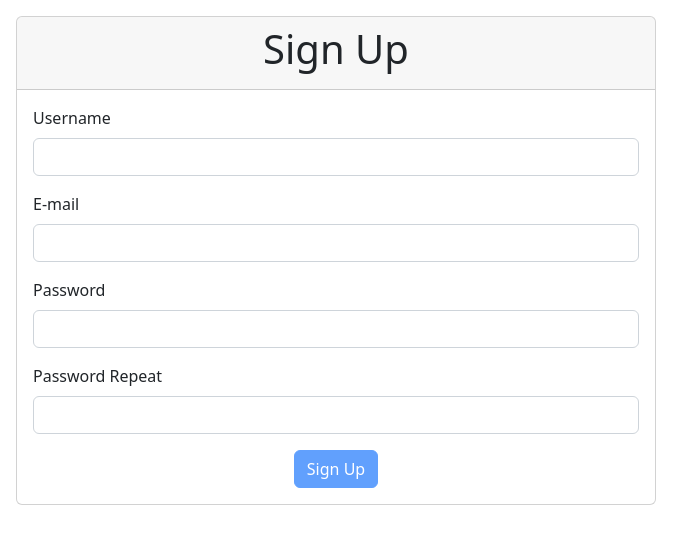
Test: SignUpPage › Interaction › hides spinner after error response received
Step 1. Type "user1" into the field labelled "Username" → {"x": 336, "y": 157}, box x1=33 y1=138 x2=639 y2=176
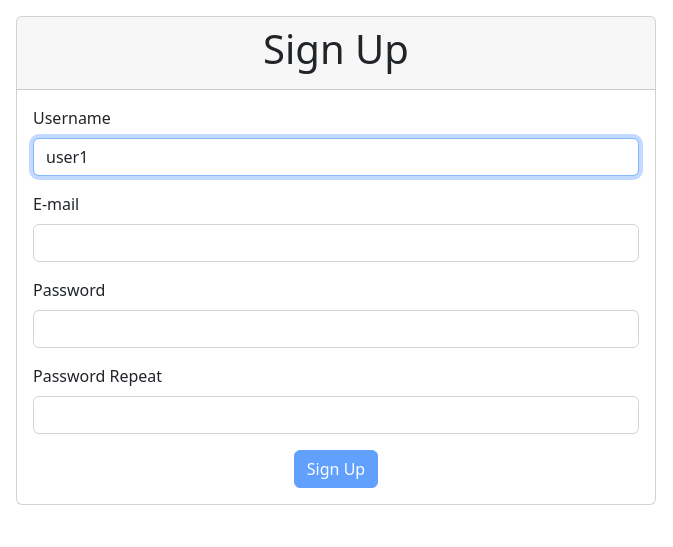
Step 2. Type "user1@mail.com" into the field labelled "E-mail" → {"x": 336, "y": 243}, box x1=33 y1=224 x2=639 y2=262
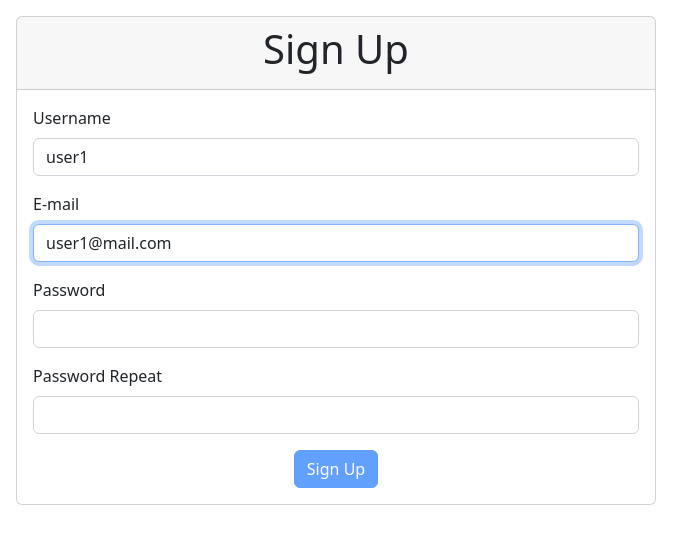
Step 3. Type "P4ssword" into the password field labelled "Password" → {"x": 336, "y": 329}, box x1=33 y1=310 x2=639 y2=348
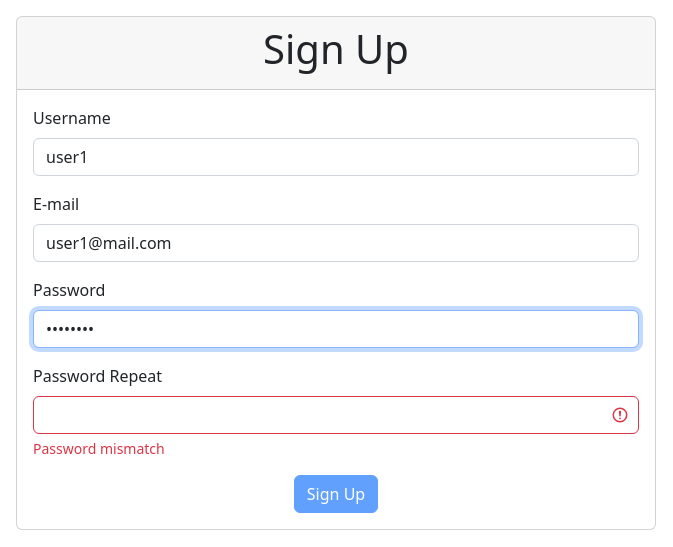
Step 4. Type "P4ssword" into the password field labelled "Password Repeat" → {"x": 336, "y": 415}, box x1=33 y1=396 x2=639 y2=434
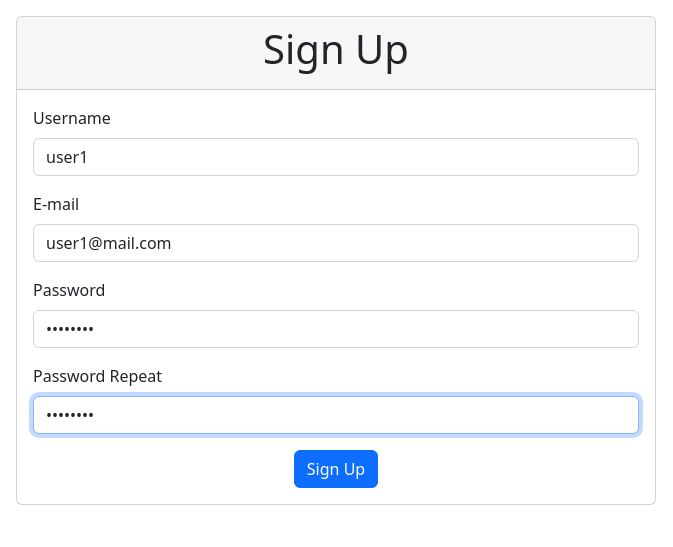
Step 5. Click the button "Sign Up" → {"x": 336, "y": 469}, box x1=294 y1=450 x2=378 y2=488
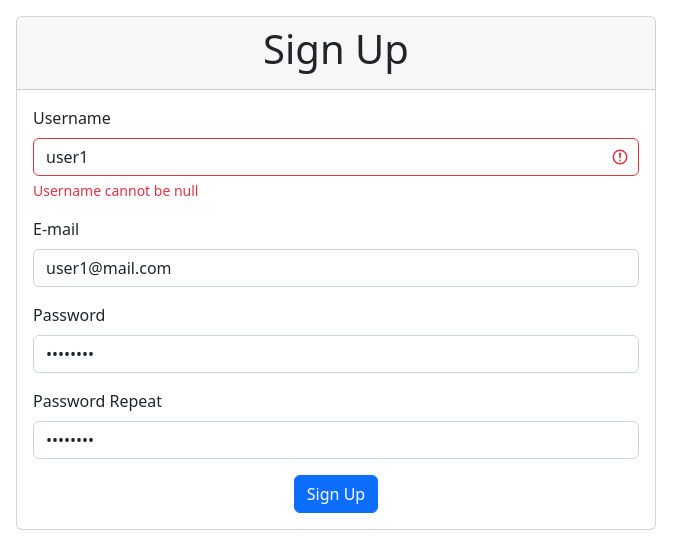
Expected: the text "Username cannot be null" is shown, x1=33 y1=181 x2=198 y2=200
